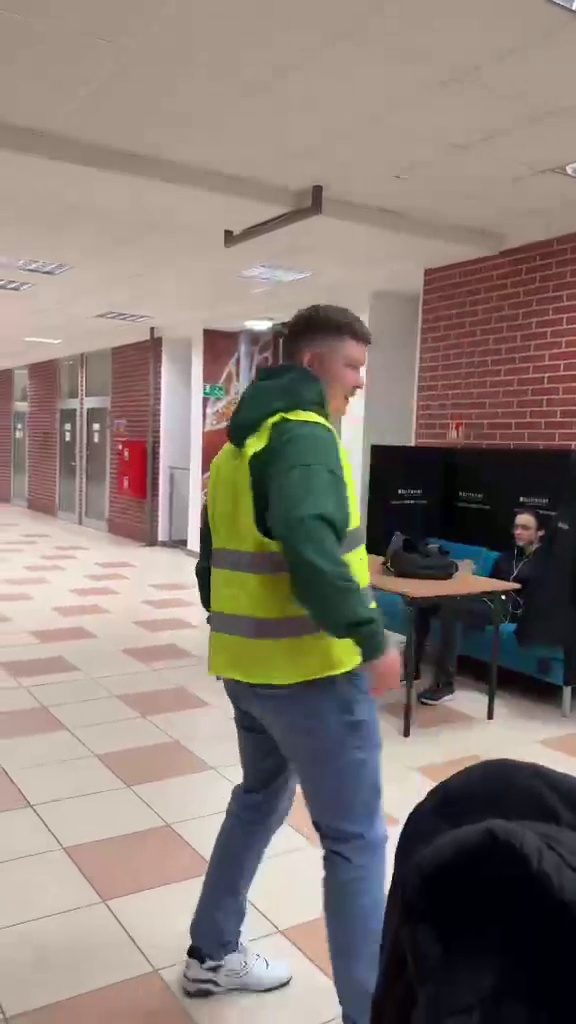no vest: (442, 497, 557, 665)
vest: (193, 308, 401, 1000)
